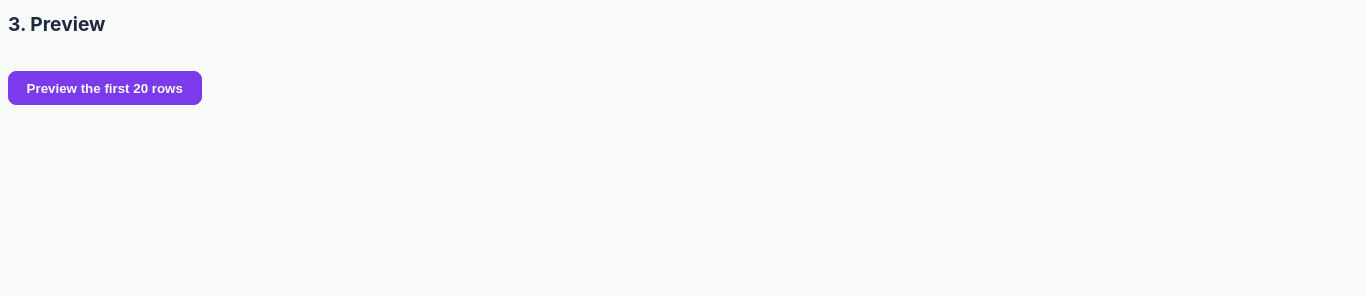
PreviewPanel › says so when there are no errors
Click the button "Preview the first 20 rows".
click(105, 88)  # box [8, 71, 202, 105]
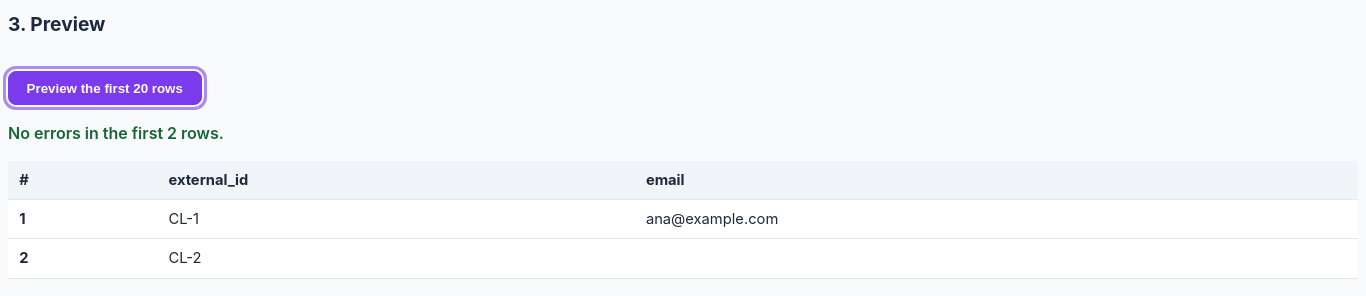
Result: the text "No errors in the first 2 rows." is shown at [8, 123, 224, 143]
